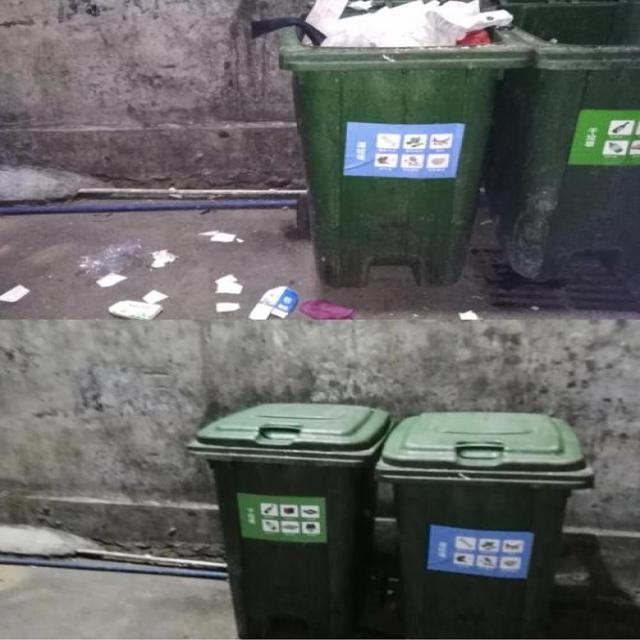garbage: (3, 231, 361, 321)
garbage_bin: (375, 409, 591, 639), (184, 402, 389, 639), (499, 3, 639, 278)
overflow: (279, 0, 528, 285)
